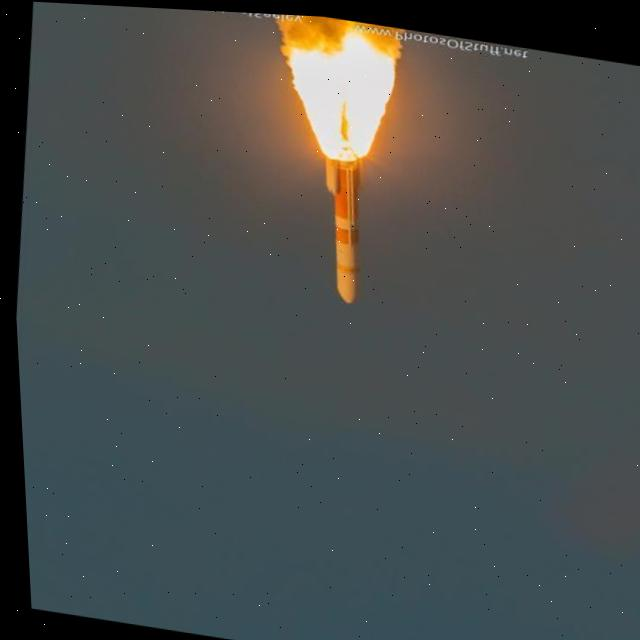missile: (311, 132, 379, 303)
